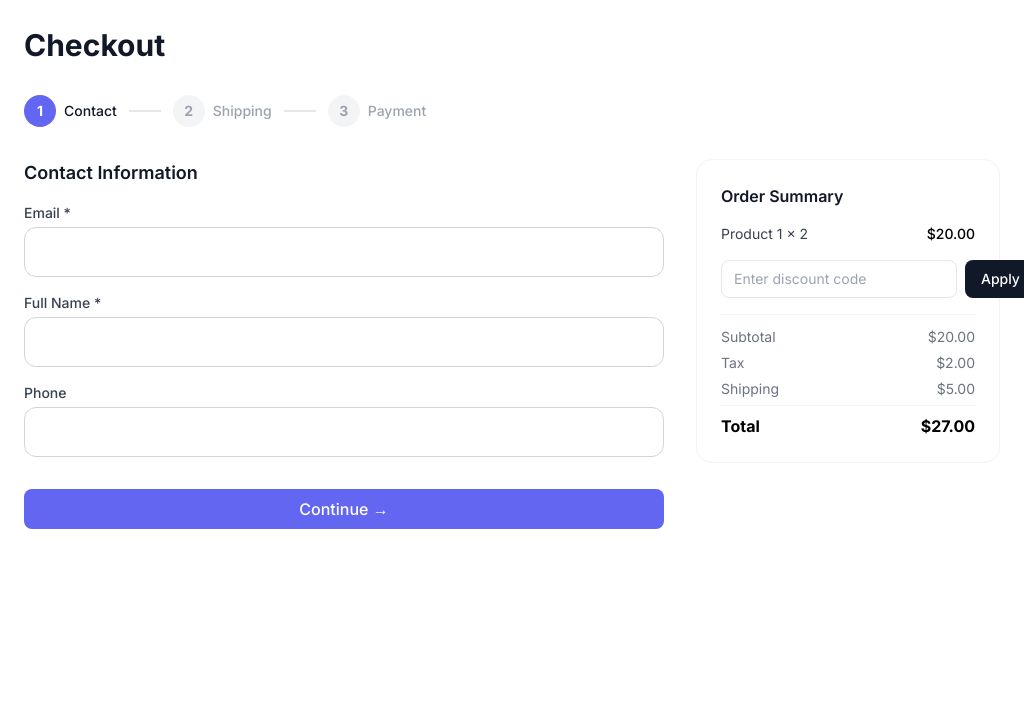
Scenario: CheckoutPage › should allow progressing through the form to shipping and payment
// --- Step 1: Contact ---
Type "test@example.com" into the field with id "email".
click(344, 252); type("test@example.com")  # box [24,227,664,277]
Type "John Doe" into the field with id "name".
click(344, 342); type("John Doe")  # box [24,317,664,367]
Click the button "Continue →".
click(344, 509)  # box [24,489,664,529]
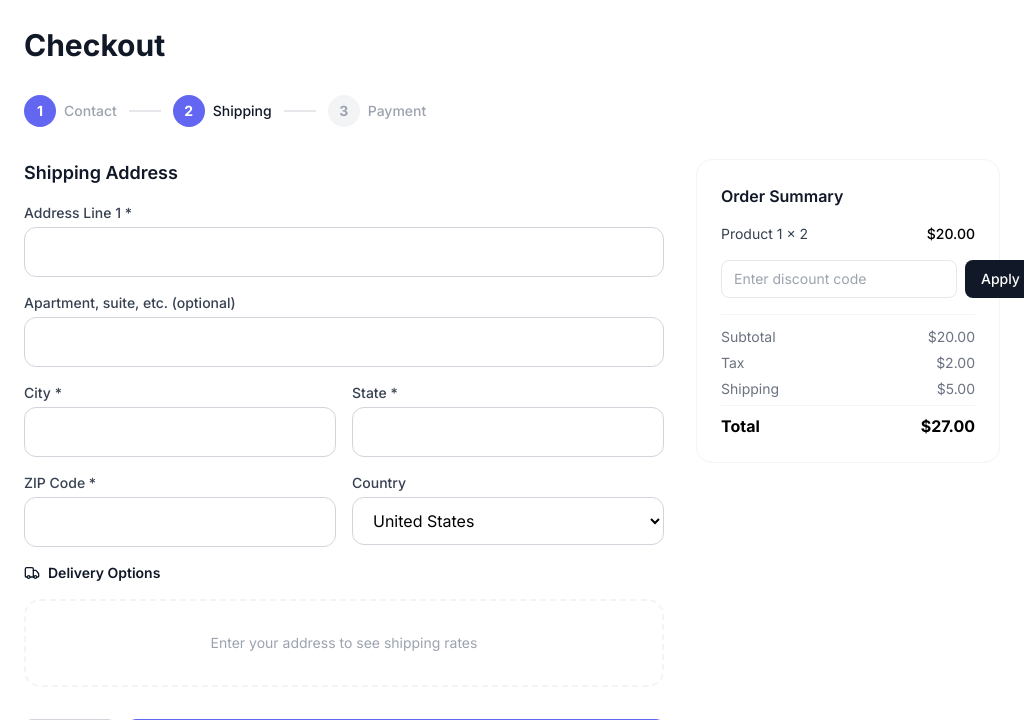
Expected: the heading "Shipping Address" is shown, [24,162,178,183]
Type "123 Main St" into the field with id "line1".
click(344, 252); type("123 Main St")  # box [24,227,664,277]
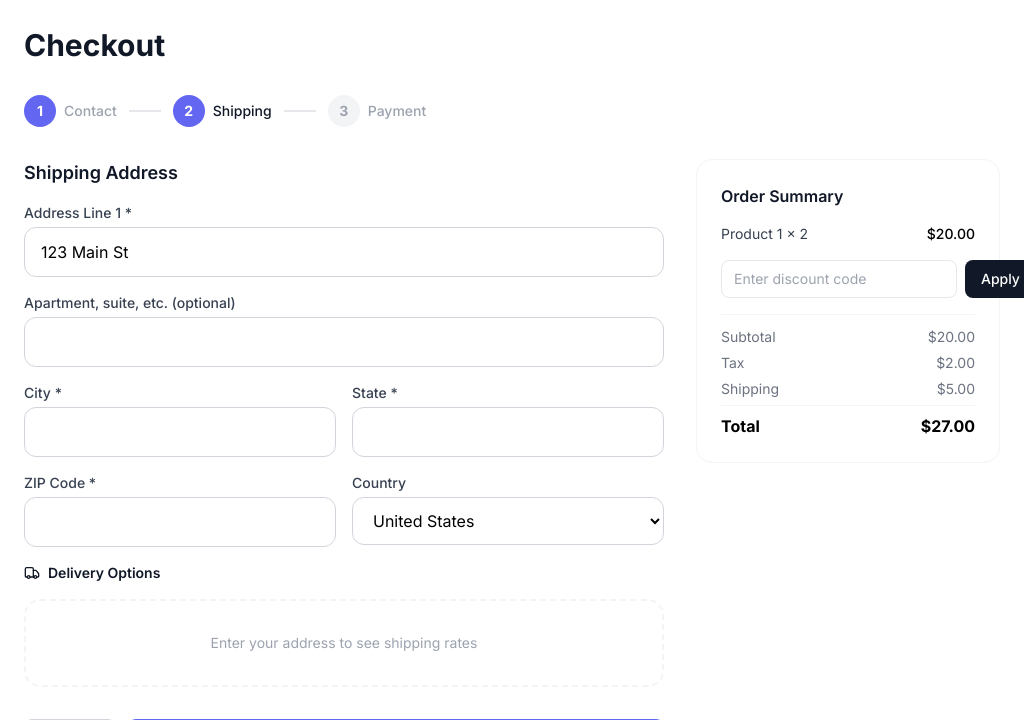
Type "Anytown" into the field with id "city".
click(180, 432); type("Anytown")  # box [24,407,336,457]
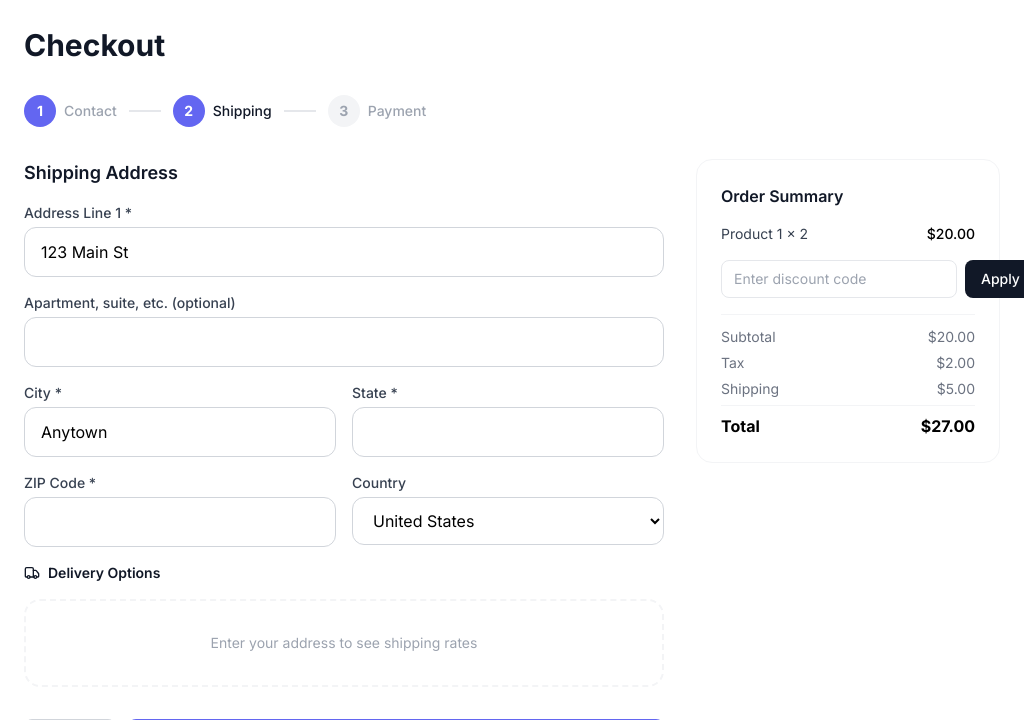
Type "NY" into the field with id "state".
click(508, 432); type("NY")  # box [352,407,664,457]
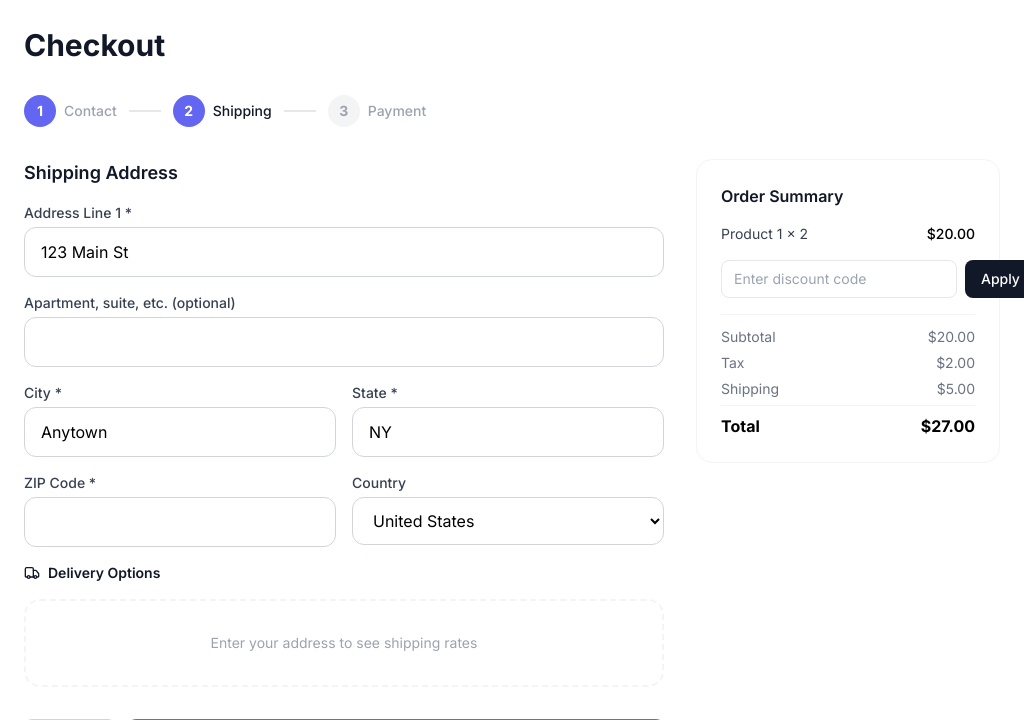
Type "10001" into the field with id "zip".
click(180, 522); type("10001")  # box [24,497,336,547]
(page scrolled)
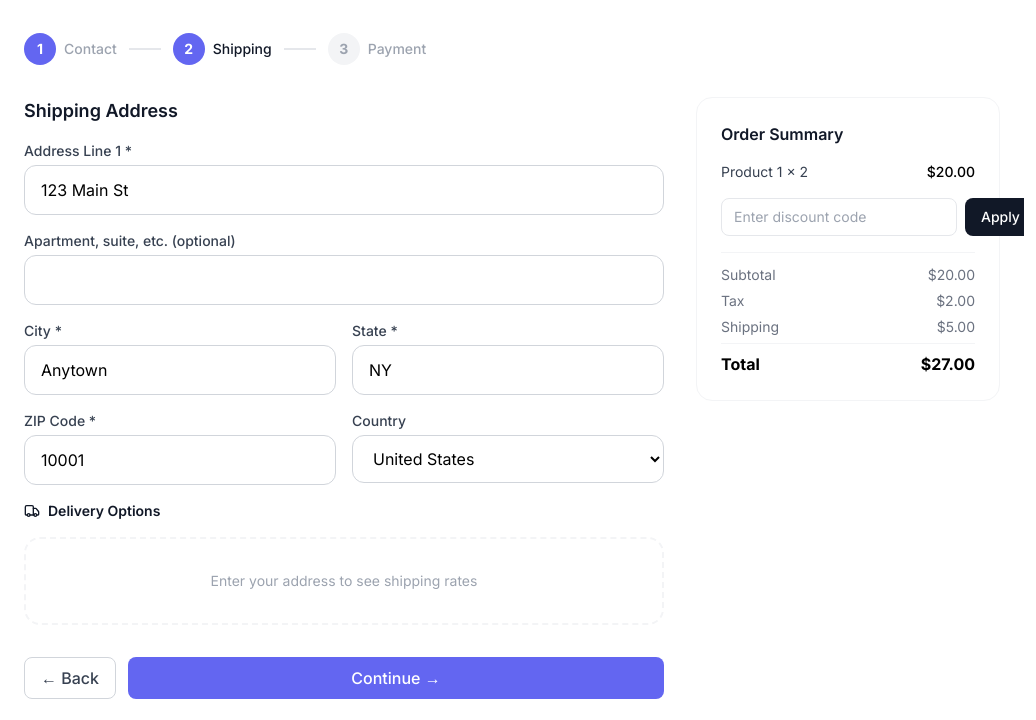
Click the button "Continue →".
click(396, 678)  # box [128,657,664,699]
(page scrolled)
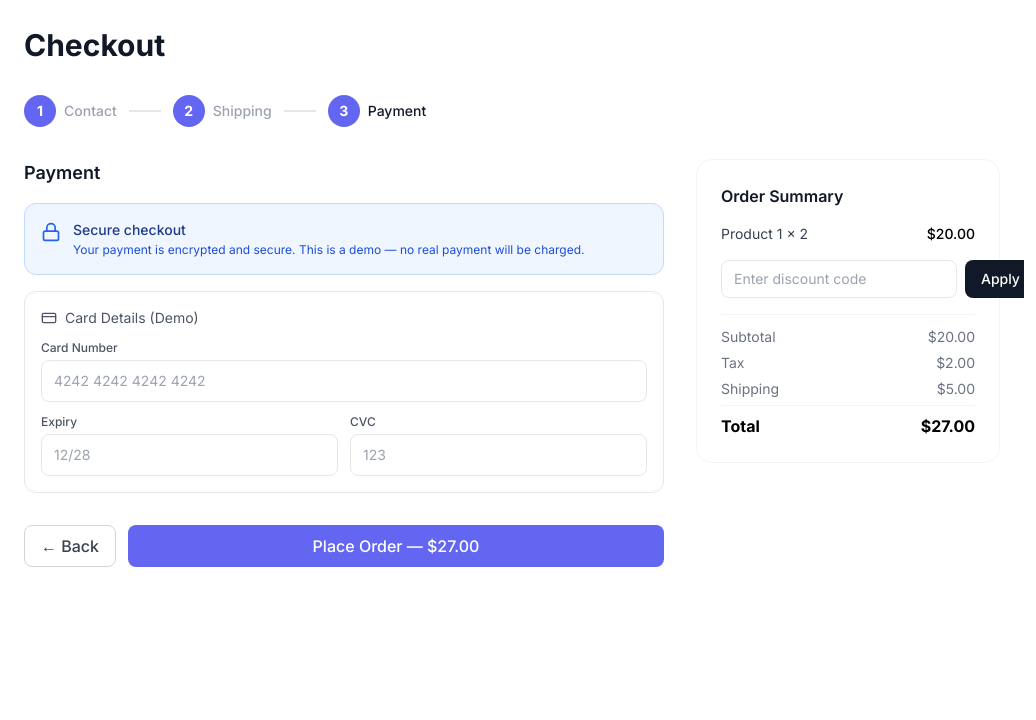
Expected: the heading "Payment" is shown, [24,162,100,183]
Expected: the button "Place Order — $27.00" is shown, [128,525,664,567]
